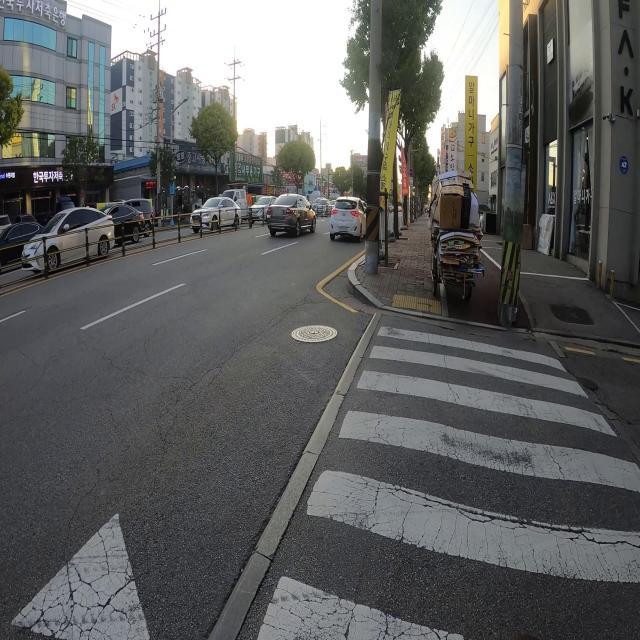crosswalk: (255, 312, 639, 640)
